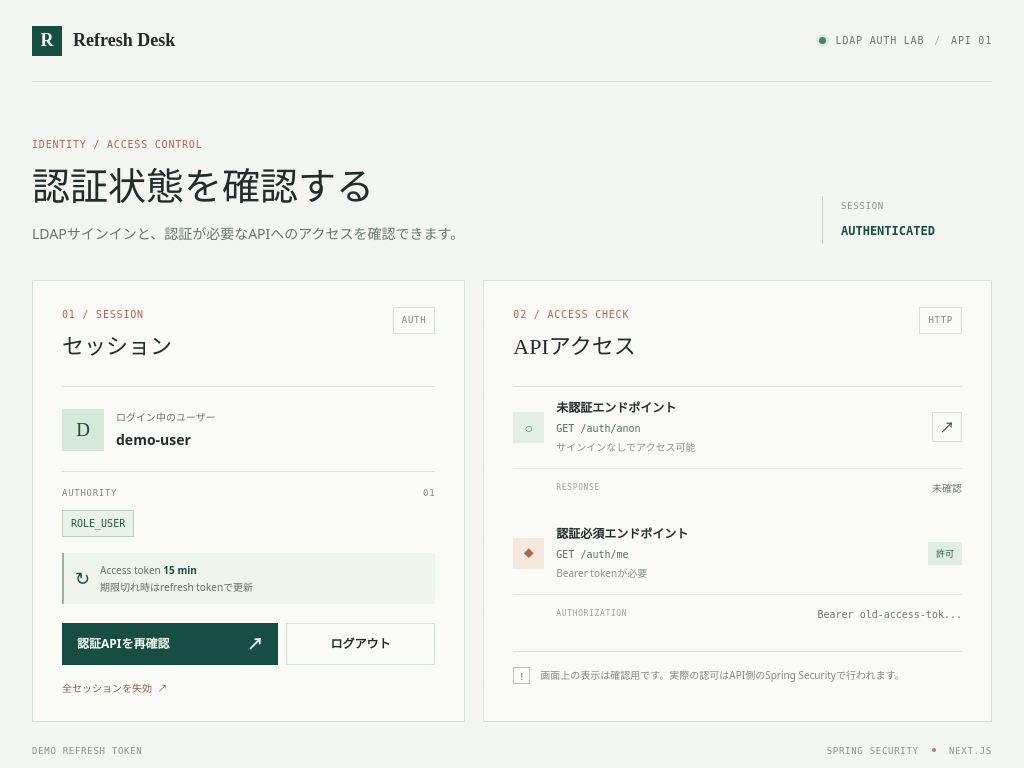
Scenario: session recovery › keeps controls after a protected check fails with offline
The width and height of the screenshot is (1024, 768).
Expected: the text "AUTHENTICATED" is shown, [841,224,935,238]
Click the button "認証APIを再確認 ↗": x=170, y=644 [62,623,278,665]
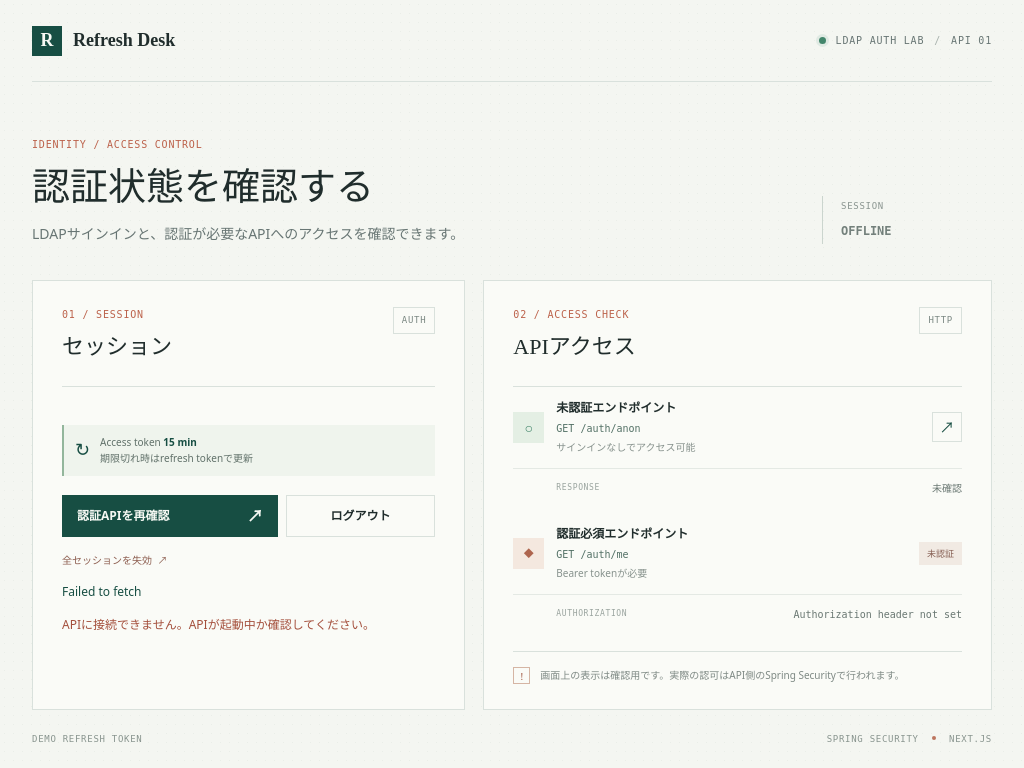
Expected: the button "認証APIを再確認 ↗" is shown, [62,495,278,537]
Expected: the text "OFFLINE" is shown, [841,224,892,238]
